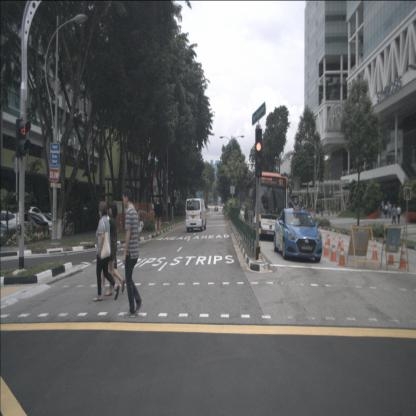human-pedestrian-adult: (121, 188, 143, 318), (93, 200, 120, 301), (104, 201, 125, 296), (391, 203, 397, 224), (397, 204, 401, 224), (388, 202, 392, 219), (384, 203, 388, 219), (378, 203, 382, 219), (381, 198, 384, 212), (387, 200, 390, 212)
movable_object-barrier: (112, 201, 132, 214), (139, 202, 150, 216)
movable_object-trafficcone: (398, 241, 408, 270), (386, 238, 396, 266), (337, 240, 346, 268), (329, 236, 338, 262), (322, 234, 330, 258), (372, 236, 379, 260), (326, 228, 331, 246), (338, 229, 342, 249), (119, 216, 123, 230), (154, 218, 158, 232), (158, 218, 162, 229), (155, 215, 158, 225), (160, 216, 162, 225)
vehicle-bicycle: (61, 214, 75, 236)
vehicle-bus-rigid: (244, 172, 288, 242)
vehicle-car: (274, 208, 322, 262), (9, 213, 49, 240), (0, 210, 33, 240), (22, 212, 58, 238), (185, 198, 207, 232), (23, 206, 45, 219), (214, 206, 218, 212)
